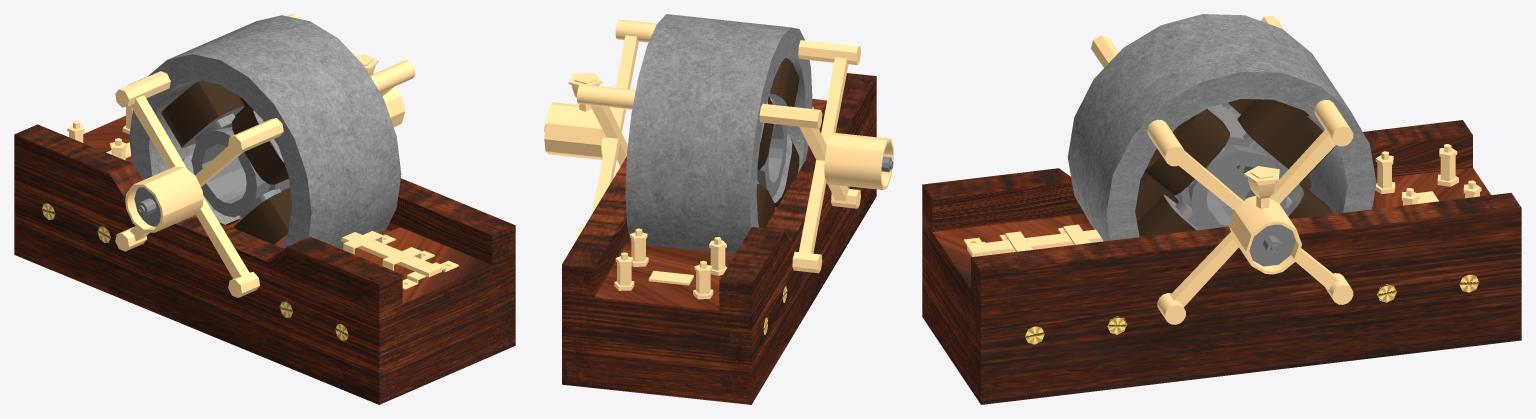
Rendered from invention-induction-motor.glb.
3 views of the same model, side by side, from view 1: azimuth 30°, elevation 25°; view 2: azimuth 150°, elevation 25°; view 3: azimuth 270°, elevation 25° (orthographic). The views are drawn at different scales.
Visible parts, largest first — view 1: objects; view 2: objects; view 3: objects.
Part boxes in pixels (<box>): objects: <box>14,14,515,404</box>; objects: <box>544,14,893,404</box>; objects: <box>922,14,1521,404</box>.
Size of the model in its own units: 1.37 by 1.12 by 2.13.
Materials: 5 (3 with a texture image).
